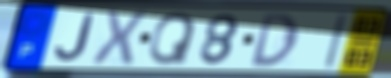8: (198, 13, 240, 66)
D: (250, 12, 301, 68)
I: (322, 11, 350, 71)
J: (52, 12, 96, 63)
Q: (147, 11, 199, 67)
X: (89, 8, 150, 68)
